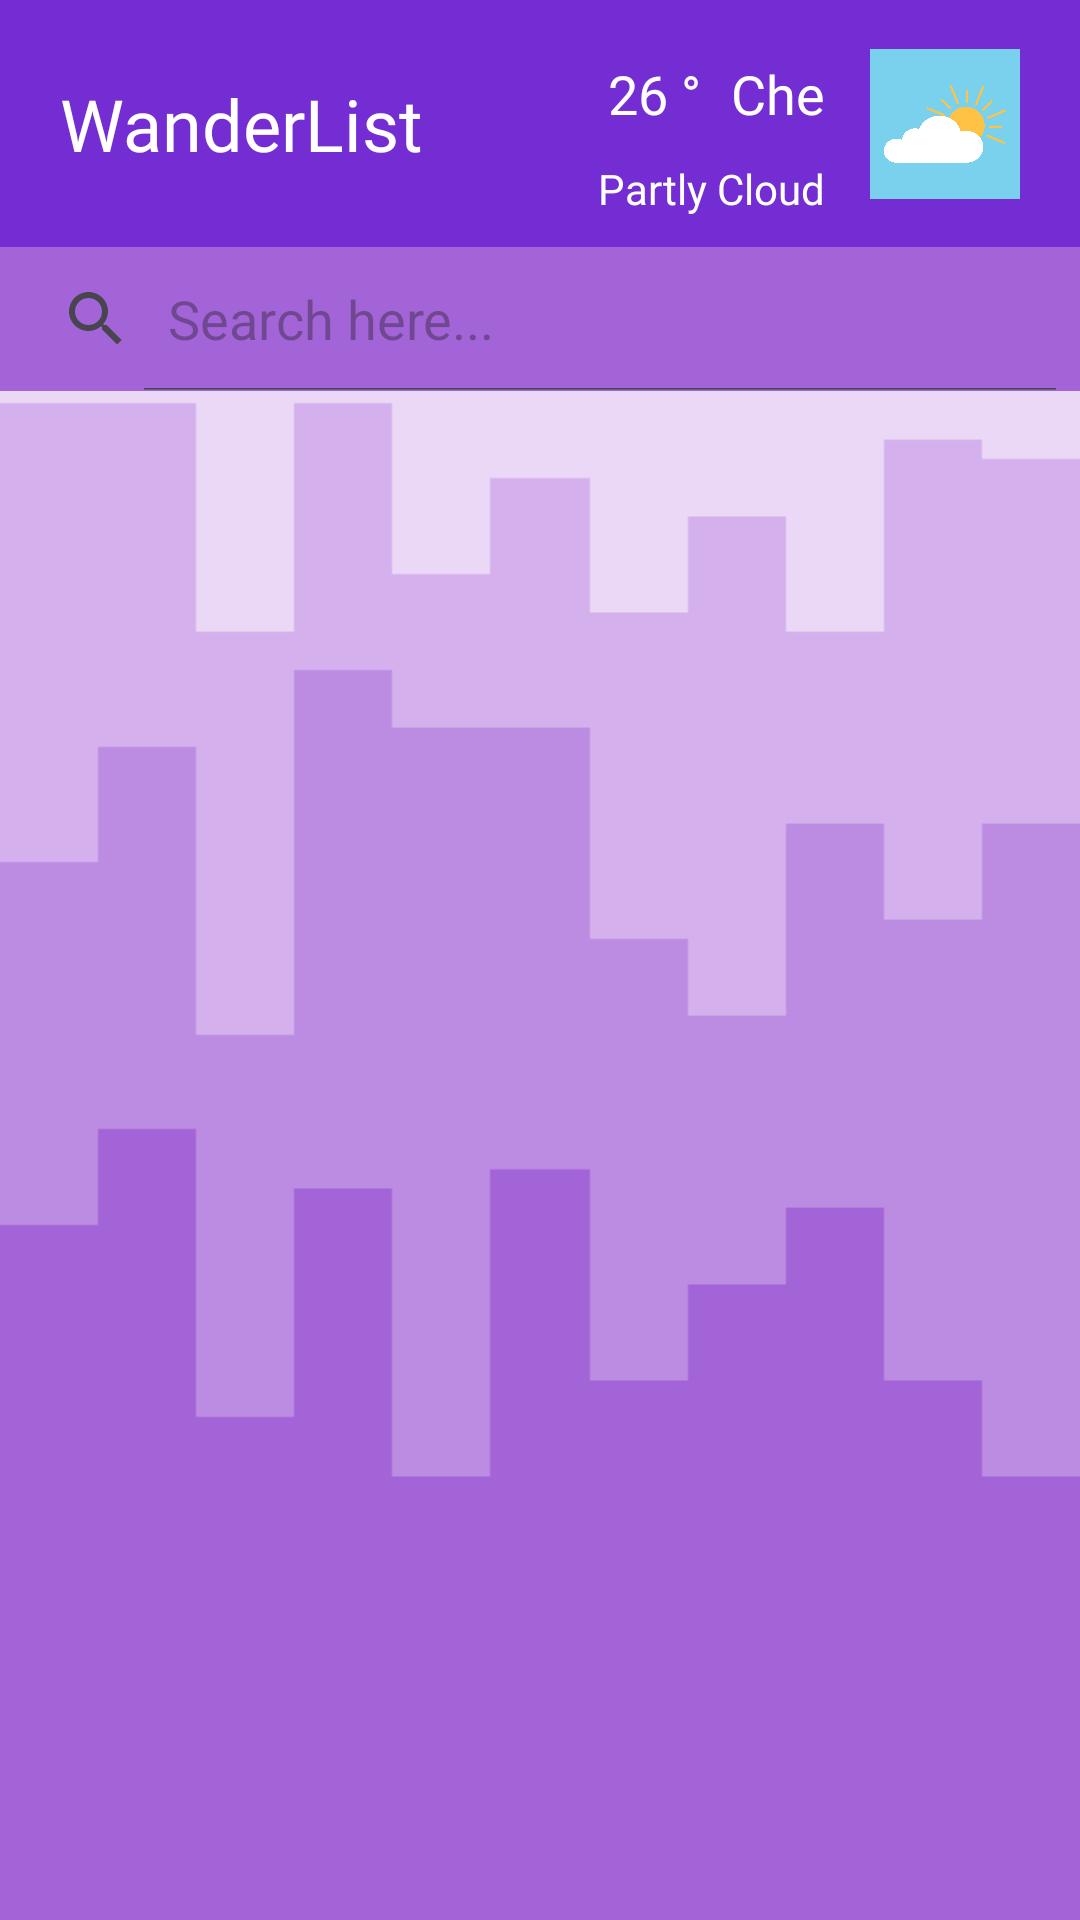

Icon bounding boxes for this 1080px x 1920px phone screenshot, format BBox(x1, y1, x2, y2):
sunny: BBox(870, 49, 1020, 199)
